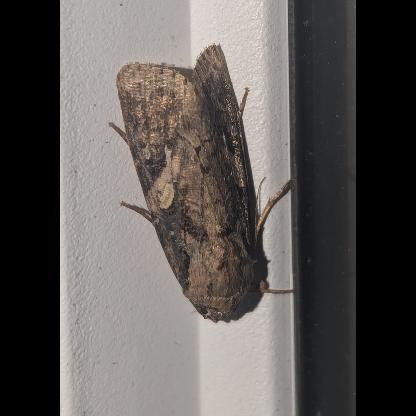Fall Armyworm Moth: (105, 39, 301, 327)
